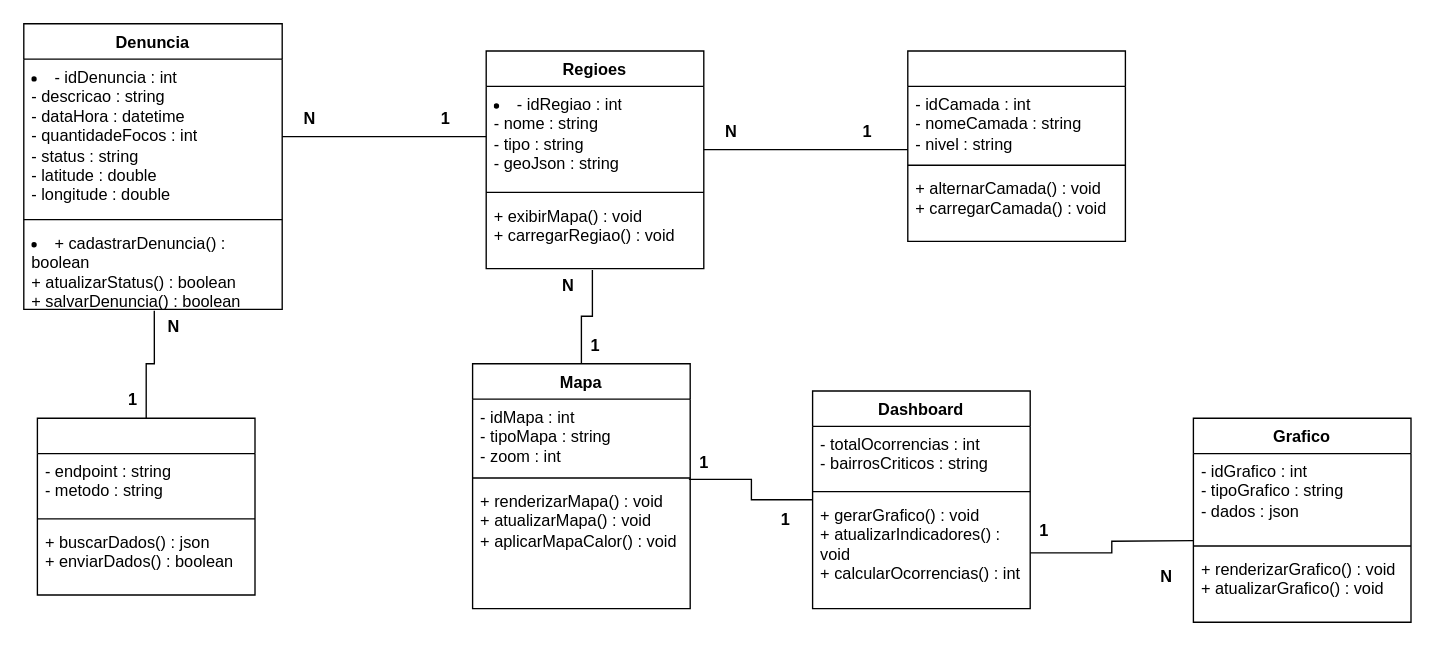
Some shapes in this 1435 by 650 pixel diagram are drawn without their labels. Here are the shapes that lost their labels. From the top down, the box of each, then its label:
(906, 50, 1125, 241): CamadaGeografica
(36, 417, 255, 595): API
